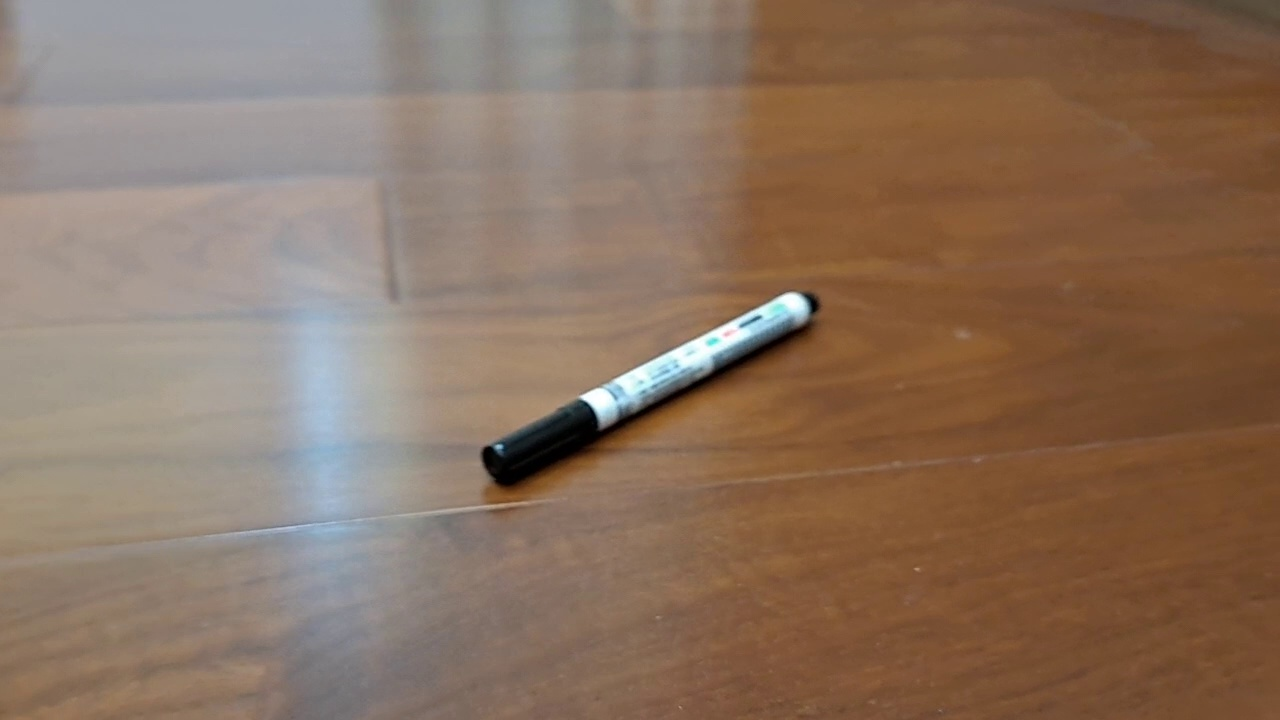pen: (482, 290, 821, 487)
